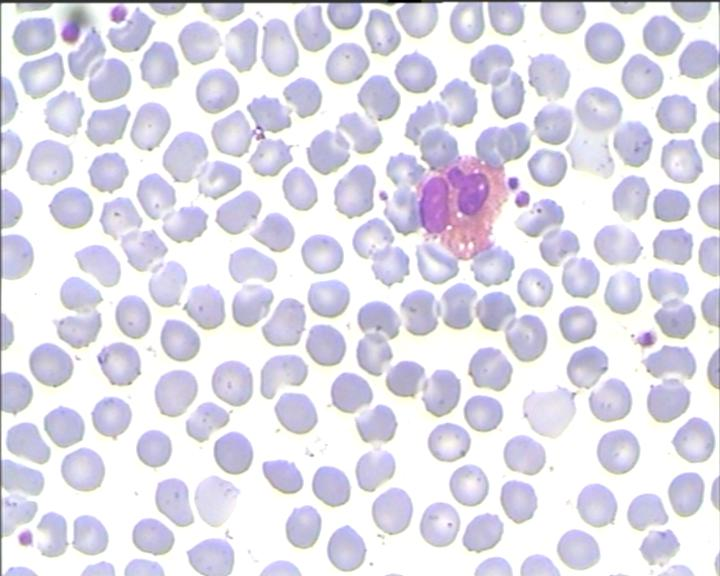eosi: (411, 153, 508, 261)
